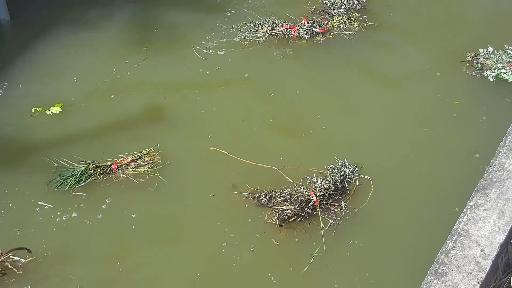leaf: (29, 104, 69, 119)
twig: (205, 145, 386, 273), (37, 140, 169, 197), (230, 18, 376, 56), (457, 42, 512, 72), (0, 242, 36, 284), (273, 0, 371, 13)
